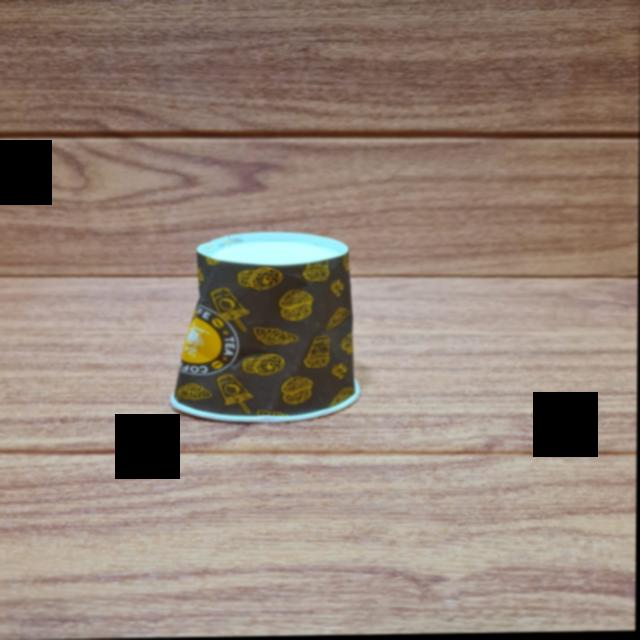cups: (176, 232, 355, 418)
